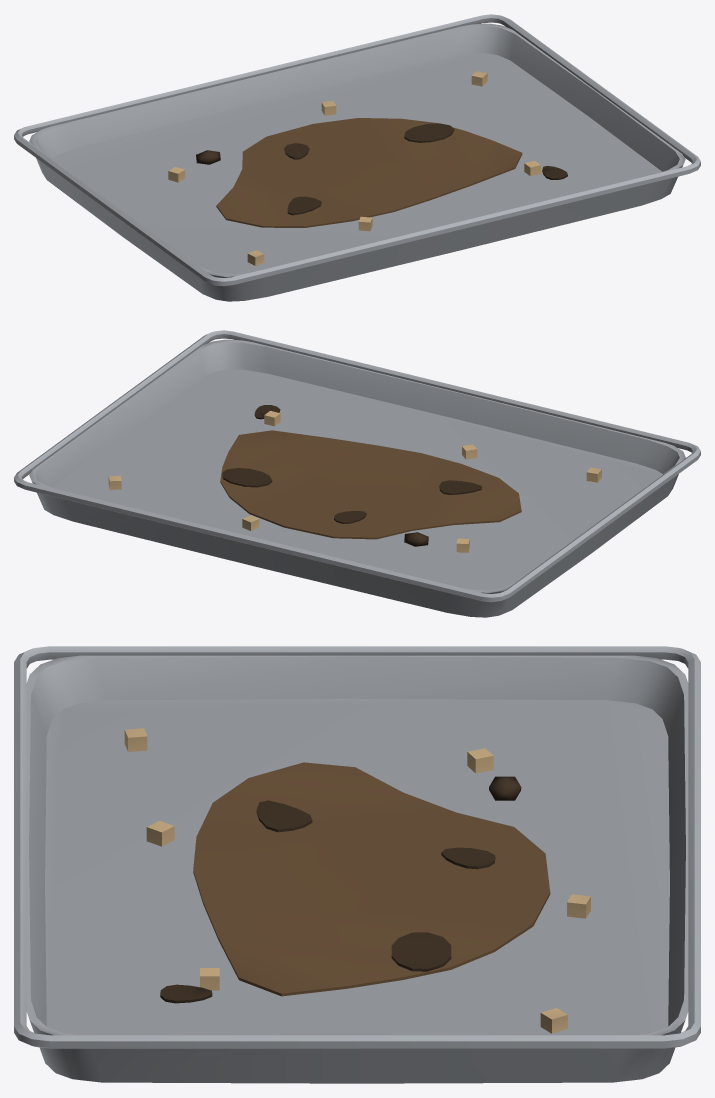
Rendered from trayDirty.glb.
3 views of the same model, one above another, from view 1: azimuth 30°, elevation 25°; view 2: azimuth 150°, elevation 25°; view 3: azimuth 270°, elevation 25° (orthographic). The views are drawn at different scales.
Visible parts, largest first — view 1: trayDirty; view 2: trayDirty; view 3: trayDirty.
Boxes of the visible parts, x1,y1,x2,y2 form: trayDirty: (14, 14, 700, 301); trayDirty: (14, 330, 700, 617); trayDirty: (14, 646, 700, 1083).
Size of the model in its own units: 0.3792 by 0.025 by 0.2792.
